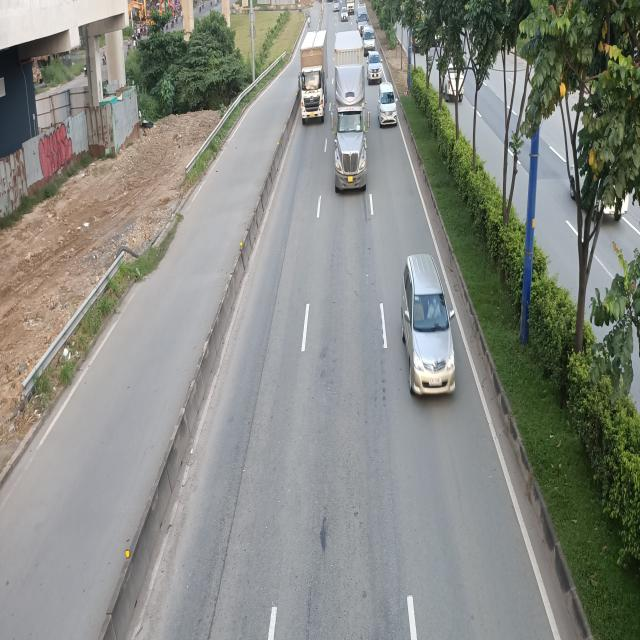car: (400, 255, 456, 401), (378, 84, 399, 127)
container: (330, 27, 370, 188)
truck: (297, 31, 326, 125)
van: (363, 27, 376, 54)
